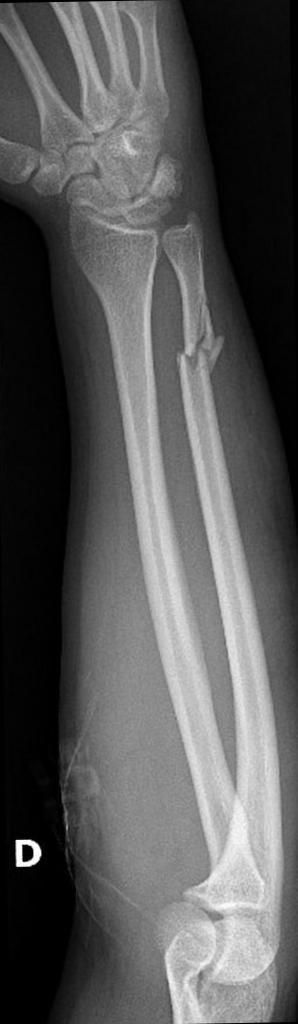messed_up_angle: (178, 296, 223, 372)
